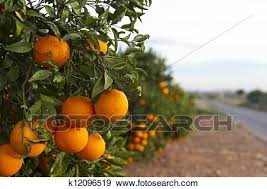orange: (30, 30, 73, 67), (10, 117, 47, 156), (93, 88, 130, 120), (62, 92, 95, 125), (57, 122, 90, 152), (80, 130, 107, 160)
